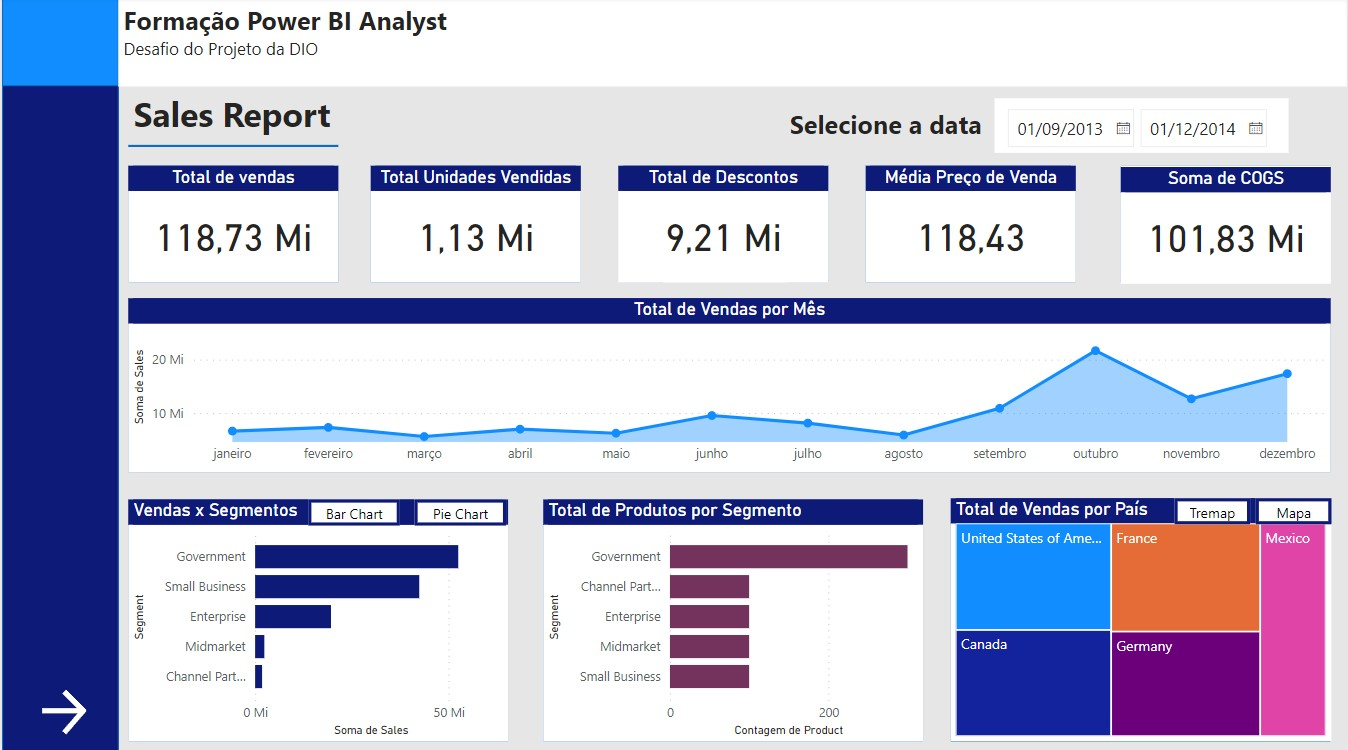

The page's visual inventory and layout, read from the dashboard file:
{"tool":"powerbi","page":{"name":"Página 1","canvas":[1280,720],"ordinal":0},"visuals":[{"type":"shape","box":[0,0,111.1,719.8],"z":0},{"type":"barChart","title":"Vendas x Segmentos","fields":{"Y":["Sum(financials. Sales)"],"Category":["financials.Segment"]},"box":[121,478.2,361.4,230.8],"z":0,"group":"g2"},{"type":"shape","box":[0,0,111.1,85],"z":1000},{"type":"treemap","title":"Total de Vendas por País ","fields":{"Group":["financials.Country"],"Values":["Sum(financials. Sales)"]},"box":[902.9,477.8,362.2,231.2],"z":1000,"group":"g1"},{"type":"shape","title":"Bar","box":[292,478.2,87.6,25],"z":1250,"group":"g2"},{"type":"shape","title":"Pie","box":[393.4,478.2,87.6,25],"z":1500,"group":"g2"},{"type":"shape","title":"Mapa","box":[1192.7,478.2,72.3,25],"z":1500,"group":"g1"},{"type":"textbox","box":[111.1,1.4,1169.5,83.6],"z":2000},{"type":"shape","title":"Tremap","box":[1116.3,478.2,72.3,25],"z":2000,"group":"g1"},{"type":"textbox","box":[120.7,85,272.8,56.2],"z":3000},{"type":"shape","box":[120.7,122,200.2,38.4],"z":4000},{"type":"shape","box":[120.7,160.4,200.2,111.1],"z":5000},{"type":"shape","box":[351,160.4,200.2,111.1],"z":6000},{"type":"shape","box":[586.8,160.4,200.2,111.1],"z":7000},{"type":"shape","box":[822.6,160.4,200.2,111.1],"z":8000},{"type":"shape","box":[1065.3,160.4,200.2,111.1],"z":9000},{"type":"shape","box":[120.7,286.5,1144.8,165.9],"z":10000},{"type":"shape","box":[120.7,478.5,362,230.3],"z":11000},{"type":"shape","box":[515.5,478.5,362,230.3],"z":12000},{"type":"shape","box":[903.5,478.5,362,230.3],"z":13000},{"type":"areaChart","title":"Total de Vendas por Mês","fields":{"Category":["financials.Date.Variation.Hierarquia de datas.Mês"],"Y":["Sum(financials. Sales)"]},"box":[120.7,286.5,1144.8,165.9],"z":14000},{"type":"card","title":"Total de vendas","fields":{"Values":["Sum(financials. Sales)"]},"box":[120.7,160.4,200.2,111.1],"z":15000},{"type":"card","title":"Total Unidades Vendidas","fields":{"Values":["Sum(financials.Units Sold)"]},"box":[351,160.4,200.2,111.1],"z":16000},{"type":"card","box":[586.8,160.4,200.2,111.1],"z":17000},{"type":"card","box":[1065.3,160.4,200.2,111.1],"z":18000},{"type":"card","title":"Total de Descontos","fields":{"Values":["Sum(financials.Discounts)"]},"box":[586.8,160.4,200.2,111.1],"z":19000},{"type":"card","title":"Média Preço de Venda","fields":{"Values":["Avg(financials.Sale Price)"]},"box":[822.6,160.4,200.2,111.1],"z":20000},{"type":"card","title":"Soma de COGS","fields":{"Values":["Sum(financials.COGS)"]},"box":[1065.3,161.8,200.2,111.1],"z":21000},{"type":"barChart","title":"Total de Produtos por Segmento","fields":{"Category":["financials.Segment"],"Y":["CountNonNull(financials.Product)"]},"box":[515.5,478.5,362,230.3],"z":22000},{"type":"slicer","fields":{"Values":["financials.Date"]},"box":[944.7,96,279.7,52.1],"z":23000},{"type":"textbox","box":[737.6,100.1,207,48],"z":24000},{"type":"actionButton","box":[22.1,654.6,69.7,52.7],"z":25000},{"type":"group","id":"g1","title":"Vendas x Pais","box":[902.9,477.8,362.2,231.2],"z":30000},{"type":"group","id":"g2","title":"vendas x segmento","box":[120.7,478.2,362,230.8],"z":31000}]}

Visuals, with their boxes on the page's 1280x720 design canvas (x1, y1, x2, y2). These are canvas units, not pixel positions in the 1348x750 screenshot, which may show the page scaled, cropped or inside an application window:
shape: locate(0, 0, 111, 720)
"Vendas x Segmentos" barChart: locate(121, 478, 482, 709)
shape: locate(0, 0, 111, 85)
"Total de Vendas por País " treemap: locate(903, 478, 1265, 709)
"Bar" shape: locate(292, 478, 380, 503)
"Pie" shape: locate(393, 478, 481, 503)
"Mapa" shape: locate(1193, 478, 1265, 503)
textbox: locate(111, 1, 1281, 85)
"Tremap" shape: locate(1116, 478, 1189, 503)
textbox: locate(121, 85, 394, 141)
shape: locate(121, 122, 321, 160)
shape: locate(121, 160, 321, 272)
shape: locate(351, 160, 551, 272)
shape: locate(587, 160, 787, 272)
shape: locate(823, 160, 1023, 272)
shape: locate(1065, 160, 1266, 272)
shape: locate(121, 286, 1266, 452)
shape: locate(121, 478, 483, 709)
shape: locate(516, 478, 878, 709)
shape: locate(904, 478, 1266, 709)
"Total de Vendas por Mês" areaChart: locate(121, 286, 1266, 452)
"Total de vendas" card: locate(121, 160, 321, 272)
"Total Unidades Vendidas" card: locate(351, 160, 551, 272)
card: locate(587, 160, 787, 272)
card: locate(1065, 160, 1266, 272)
"Total de Descontos" card: locate(587, 160, 787, 272)
"Média Preço de Venda" card: locate(823, 160, 1023, 272)
"Soma de COGS" card: locate(1065, 162, 1266, 273)
"Total de Produtos por Segmento" barChart: locate(516, 478, 878, 709)
slicer - financials.Date: locate(945, 96, 1224, 148)
textbox: locate(738, 100, 945, 148)
actionButton: locate(22, 655, 92, 707)
"Vendas x Pais" group: locate(903, 478, 1265, 709)
"vendas x segmento" group: locate(121, 478, 483, 709)
